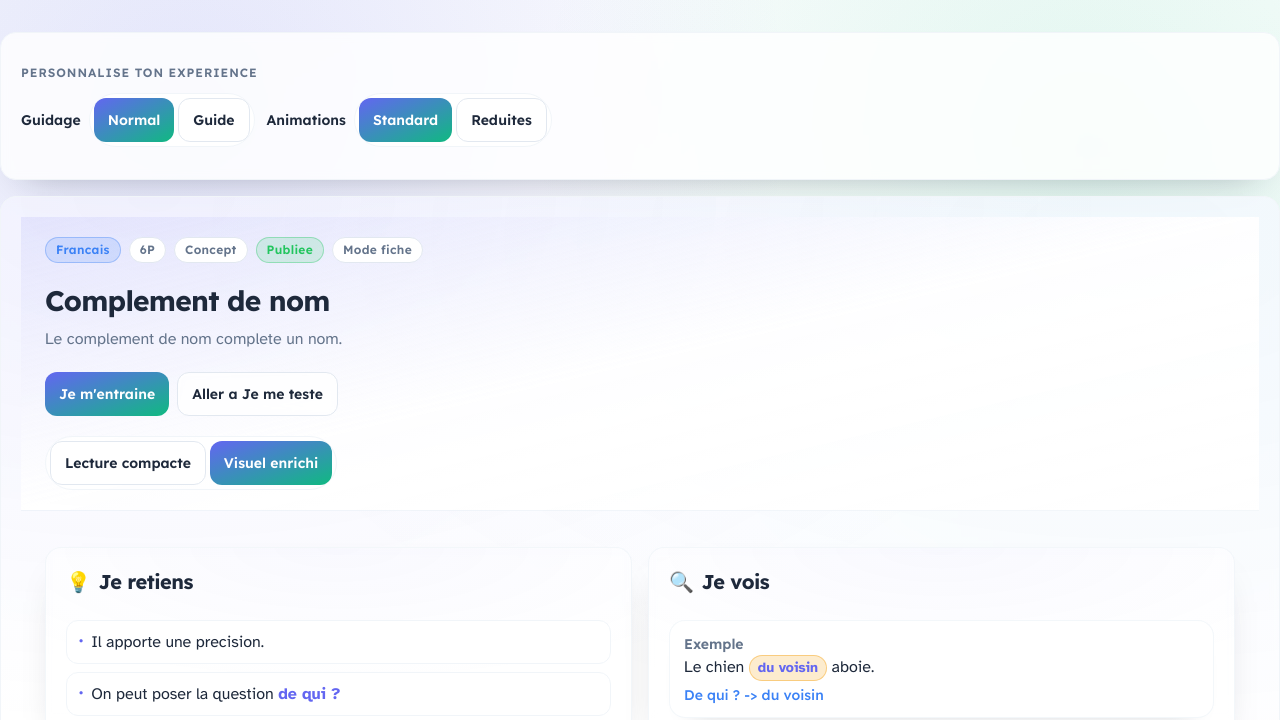
Test: RevisionCardView › maps technical generation errors to child-friendly feedback
Click the button with test id "revision-sheet-to-practice".
click(107, 394)  # box [45, 372, 169, 416]
(page scrolled)
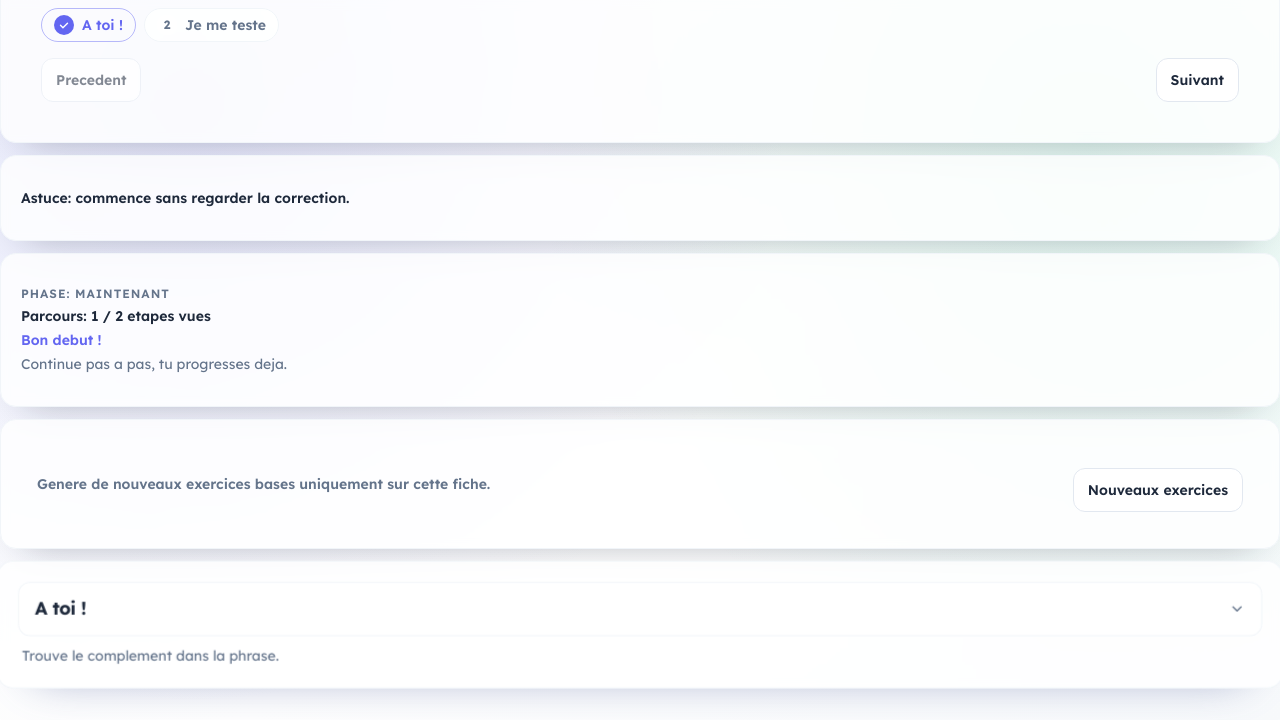
Click the button with test id "revision-generate-extra-exercises".
click(1158, 490)  # box [1073, 468, 1243, 512]
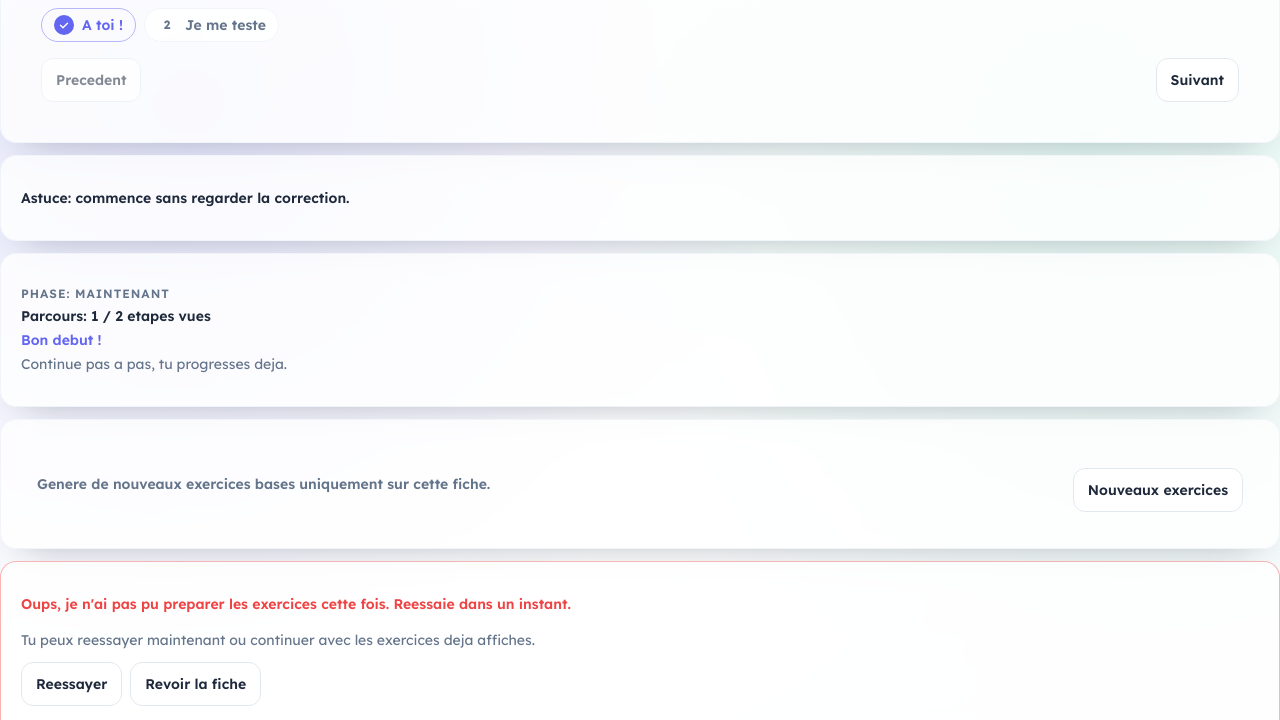
Now the text "Oups, je n'ai pas pu preparer les exercices cette fois. Reessaie dans un instant." is shown, box [21, 595, 571, 613]
Now the button with test id "revision-generate-extra-exercises-back-to-sheet" is shown, box [130, 662, 261, 706]
